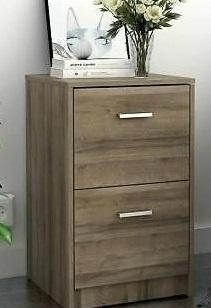cabinet_door: (74, 85, 190, 183), (75, 185, 190, 283)
handle: (115, 207, 155, 222), (116, 109, 156, 124)
